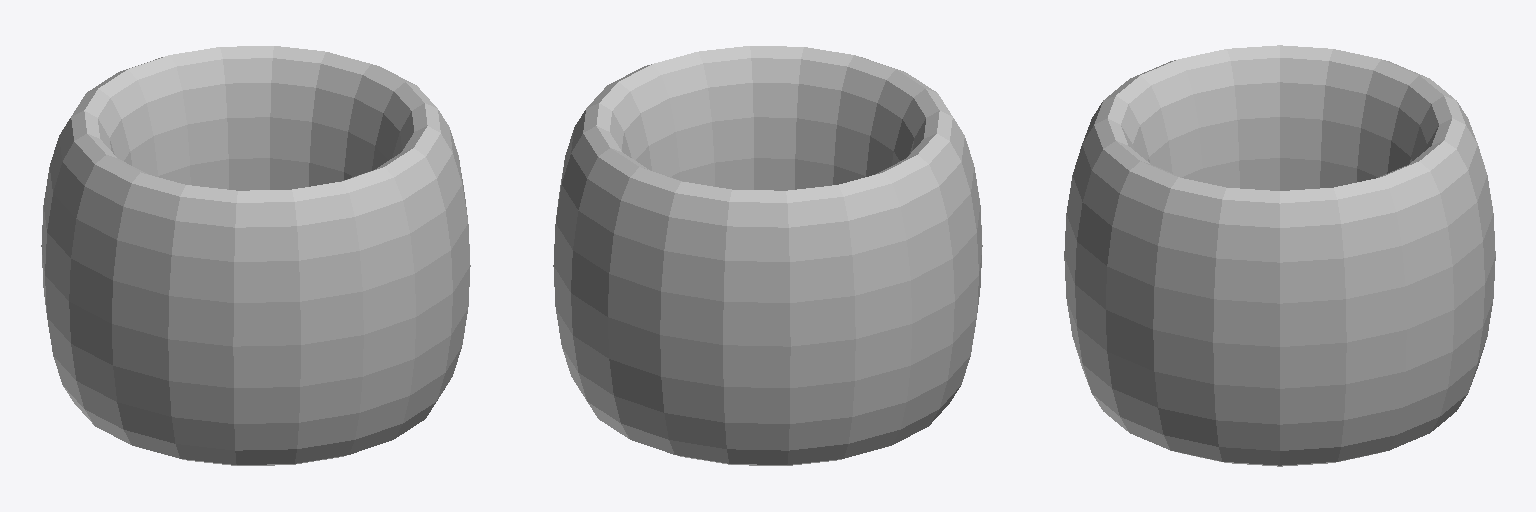
The model's file is anillo.obj.
3 renders of one model, left to right at view 1: azimuth 30°, elevation 25°; view 2: azimuth 150°, elevation 25°; view 3: azimuth 270°, elevation 25°, orthographic.
Visible parts, largest first — view 1: Anillo; view 2: Anillo; view 3: Anillo.
Part boxes in pixels (left/top/right/bottom): Anillo: left=41, top=46, right=470, bottom=465; Anillo: left=553, top=46, right=982, bottom=465; Anillo: left=1064, top=45, right=1495, bottom=466.
Size of the model in its own units: 253 by 178 by 253.